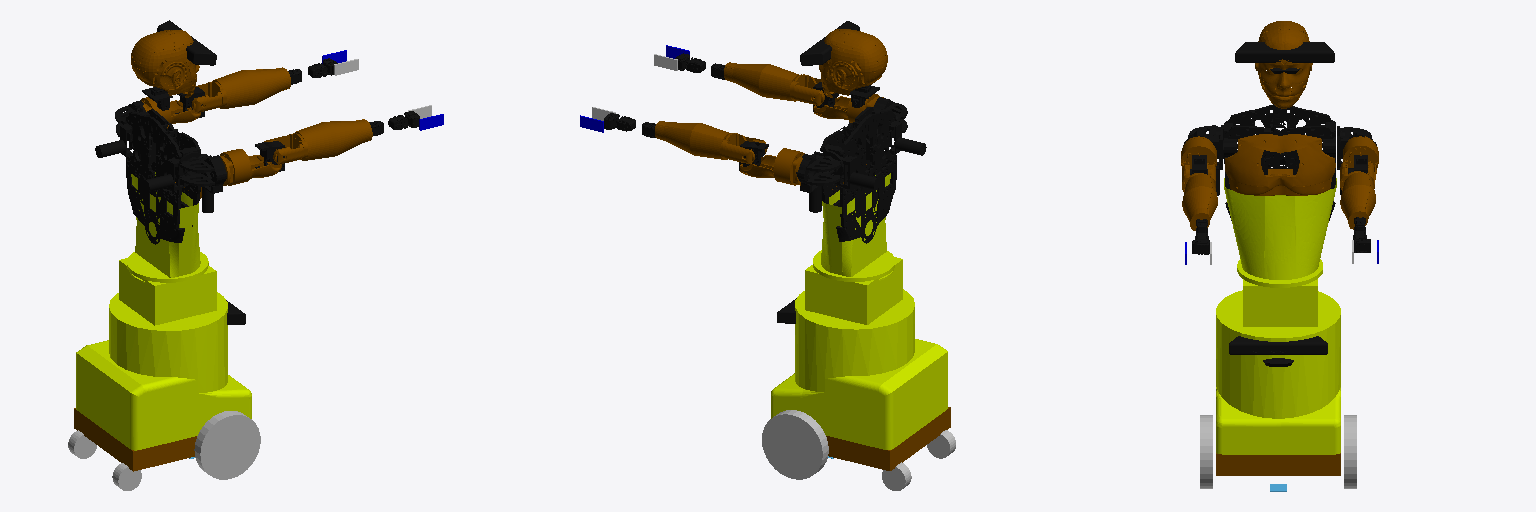
--- Render facts (derived) ---
Views: 3 orthographic renders of the robot side by side, from view 1: azimuth 30°, elevation 25°; view 2: azimuth 150°, elevation 25°; view 3: azimuth 270°, elevation 25°.
Robot: robbie — 63 links, 62 joints (17 revolute, 45 fixed); root link base_footprint; default pose: every joint at zero.
Links seen in each view (by area): view 1: deck_link, upper_torso, left_wheel, head_link, lower_torso, base_link, right_forearm_link, left_forearm_link, right_shoulder_lift, right_shoulder_rotate, right_elbow, right_shoulder_tilt (+6 smaller); view 2: deck_link, upper_torso, right_wheel, head_link, lower_torso, base_link, right_forearm_link, left_forearm_link, left_shoulder_lift, left_shoulder_rotate, right_shoulder_rotate, left_shoulder_tilt (+6 smaller); view 3: deck_link, lower_torso, upper_chest, upper_torso, head_link, base_link, head_cam_link, kinect_link, right_forearm_link, left_forearm_link, left_wheel, right_wheel (+4 smaller).
Link boxes in pixels (x1,y1,x2,y2): deck_link: (76, 252, 251, 450); upper_torso: (126, 109, 200, 244); left_wheel: (194, 411, 260, 479); head_link: (131, 30, 199, 97); lower_torso: (131, 172, 200, 277); base_link: (74, 408, 196, 471); right_forearm_link: (295, 119, 372, 160); left_forearm_link: (213, 67, 290, 108); right_shoulder_lift: (177, 152, 226, 212); right_shoulder_rotate: (220, 149, 281, 185); right_elbow: (264, 133, 307, 164); right_shoulder_tilt: (143, 147, 199, 191); deck_link: (771, 250, 947, 449); upper_torso: (820, 107, 896, 243); right_wheel: (762, 410, 828, 479); head_link: (819, 29, 887, 97); lower_torso: (821, 173, 890, 276); base_link: (826, 407, 950, 470); right_forearm_link: (724, 62, 798, 101); left_forearm_link: (655, 121, 729, 159); left_shoulder_lift: (796, 146, 843, 212); left_shoulder_rotate: (740, 148, 804, 185); right_shoulder_rotate: (813, 94, 883, 122); left_shoulder_tilt: (826, 144, 879, 189); deck_link: (1216, 259, 1340, 454); lower_torso: (1224, 178, 1336, 279); upper_chest: (1225, 134, 1335, 195); upper_torso: (1225, 104, 1335, 220); head_link: (1255, 21, 1312, 108); base_link: (1216, 453, 1340, 475); head_cam_link: (1235, 42, 1334, 73); kinect_link: (1229, 336, 1327, 366); right_forearm_link: (1182, 174, 1217, 230); left_forearm_link: (1340, 172, 1375, 229); left_wheel: (1200, 415, 1212, 488); right_wheel: (1344, 415, 1356, 488).
Size in the robot's own frame: 1.05 by 0.5507 by 1.38 metres.
27 mesh visuals loaded from 17 distinct referenced files (15 binary STL); not drawn: 13 (reference not matched to a file when rendering).

URDF robot description (robbie):
<?xml version="1.0" ?>
<!-- =================================================================================== -->
<!-- |    This document was autogenerated by xacro from robbie.xacro                   | -->
<!-- |    EDITING THIS FILE BY HAND IS NOT RECOMMENDED                                 | -->
<!-- =================================================================================== -->
<!-- XML namespaces -->
<robot name="robbie" xmlns:xacro="http://ros.org/wiki/xacro">
  <!-- ============================  A Few Color Macros  ============================ -->
  <!-- ============================   A Few Shape Macros  ============================ -->
  <!-- Import all Gazebo-customization elements, including Gazebo colors -->
  <!-- ros_control plugin -->
  <gazebo>
    <plugin filename="libgazebo_ros_control.so" name="gazebo_ros_control">
      <robotNamespace>/robbie</robotNamespace>
      <robotSimType>gazebo_ros_control/DefaultRobotHWSim</robotSimType>
    </plugin>
  </gazebo>
  <link name="base_link">
    <visual>
      <origin rpy="0 0 0" xyz="0 0 -0.032"/>
      <geometry>
        <box size="0.41 0.35 0.065"/>
      </geometry>
      <material name="gold">
        <color rgba="0.5 0.3 0 1.0"/>
      </material>
    </visual>
    <collision>
      <origin rpy="0 0 0" xyz="0 0 -0.032"/>
      <geometry>
        <box size="0.41 0.35 0.065"/>
      </geometry>
      <inertial>
        <mass value="0.01"/>
        <inertia ixx="0.001" ixy="0.0" ixz="0.0" iyy="0.001" iyz="0.0" izz="0.001"/>
      </inertial>
    </collision>
  </link>
  <gazebo reference="base_link">
    <material>Gazebo/FlatBlack</material>
    <selfCollide>false</selfCollide>
    <turnGravityOff>true</turnGravityOff>
  </gazebo>
  <link name="base_footprint">
    <visual>
      <origin rpy="0 0 0" xyz="0 0 0"/>
      <geometry>
        <box size="0.05 0.05 0.001"/>
      </geometry>
      <material name="TransparentGreen"/>
    </visual>
  </link>
  <link name="left_wheel">
    <visual>
      <origin rpy="1.57 0 0" xyz="0 0 0"/>
      <geometry>
        <cylinder length="0.035" radius="0.1025"/>
      </geometry>
      <material name="grey1">
        <color rgba="0.75 0.75 0.75 1.0"/>
      </material>
    </visual>
    <collision>
      <origin rpy="1.57 0 0" xyz="0 0 0"/>
      <geometry>
        <cylinder length="0.035" radius="0.1025"/>
      </geometry>
    </collision>
    <inertial>
      <mass value="0.1"/>
      <inertia ixx="0.001" ixy="0.0" ixz="0.0" iyy="0.001" iyz="0.0" izz="0.001"/>
    </inertial>
  </link>
  <gazebo reference="left_wheel">
    <material>Gazebo/Grey</material>
    <selfCollide>false</selfCollide>
    <turnGravityOff>true</turnGravityOff>
  </gazebo>
  <link name="right_wheel">
    <visual>
      <origin rpy="1.57 0 0" xyz="0 0 0"/>
      <geometry>
        <cylinder length="0.035" radius="0.1025"/>
      </geometry>
      <material name="grey1">
        <color rgba="0.75 0.75 0.75 1.0"/>
      </material>
    </visual>
    <collision>
      <origin rpy="1.57 0 0" xyz="0 0 0"/>
      <geometry>
        <cylinder length="0.035" radius="0.1025"/>
      </geometry>
    </collision>
    <inertial>
      <mass value="0.1"/>
      <inertia ixx="0.001" ixy="0.0" ixz="0.0" iyy="0.001" iyz="0.0" izz="0.001"/>
    </inertial>
  </link>
  <gazebo reference="right_wheel">
    <material>Gazebo/Grey</material>
    <selfCollide>false</selfCollide>
    <turnGravityOff>true</turnGravityOff>
  </gazebo>
  <link name="castor_wheel_l">
    <visual>
      <origin rpy="1.57 0 0" xyz="0 0 0"/>
      <geometry>
        <cylinder length="0.035" radius="0.04"/>
      </geometry>
      <material name="grey1">
        <color rgba="0.75 0.75 0.75 1.0"/>
      </material>
    </visual>
    <collision>
      <origin rpy="1.57 0 0" xyz="0 0 0"/>
      <geometry>
        <cylinder length="0.035" radius="0.04"/>
      </geometry>
    </collision>
    <inertial>
      <mass value="0.1"/>
      <inertia ixx="0.001" ixy="0.0" ixz="0.0" iyy="0.001" iyz="0.0" izz="0.001"/>
    </inertial>
  </link>
  <gazebo reference="castor_wheel_l">
    <material>Gazebo/Grey</material>
    <selfCollide>false</selfCollide>
    <turnGravityOff>true</turnGravityOff>
  </gazebo>
  <link name="castor_wheel_r">
    <visual>
      <origin rpy="1.57 0 0" xyz="0 0 0"/>
      <geometry>
        <cylinder length="0.035" radius="0.04"/>
      </geometry>
      <material name="grey1">
        <color rgba="0.75 0.75 0.75 1.0"/>
      </material>
    </visual>
    <collision>
      <origin rpy="1.57 0 0" xyz="0 0 0"/>
      <geometry>
        <cylinder length="0.035" radius="0.04"/>
      </geometry>
    </collision>
    <inertial>
      <mass value="0.1"/>
      <inertia ixx="0.001" ixy="0.0" ixz="0.0" iyy="0.001" iyz="0.0" izz="0.001"/>
    </inertial>
  </link>
  <gazebo reference="castor_wheel_r">
    <material>Gazebo/Grey</material>
    <selfCollide>false</selfCollide>
    <turnGravityOff>true</turnGravityOff>
  </gazebo>
  <!--<xacro:my_cylinder name="deck_link" l="0.520" r="0.175" xyz="0 0 -0.26" rpy="0 0 0" mass="0.2" material="Gazebo/grey">
			<xacro:black />
		</xacro:my_cylinder>-->
  <link name="deck_link">
    <visual>
      <geometry>
        <mesh filename="package://robbie_description/meshes/drive_base.stl" scale="0.001 0.001 0.001"/>
      </geometry>
      <material name="yellow2">
        <color rgba="0.8 0.9 0 1.0"/>
      </material>
      <origin rpy="0 0 1.57" xyz=" 0.015 -0.175 -0"/>
    </visual>
    <inertial>
      <mass value="5.0"/>
      <inertia ixx="0.001" ixy="0.0" ixz="0.0" iyy="0.001" iyz="0.0" izz="0.001"/>
    </inertial>
  </link>
  <link name="pan_link">
    <visual>
      <origin rpy="0 0 0" xyz="0.0 0 -0.02"/>
      <geometry>
        <cylinder length="0.005" radius="0.1"/>
      </geometry>
      <material name="yellow2">
        <color rgba="0.8 0.9 0 1.0"/>
      </material>
    </visual>
    <collision>
      <origin rpy="0 0 0" xyz="0.0 0 -0.02"/>
      <geometry>
        <cylinder length="0.005" radius="0.1"/>
      </geometry>
    </collision>
    <inertial>
      <mass value="0.2"/>
      <inertia ixx="0.001" ixy="0.0" ixz="0.0" iyy="0.001" iyz="0.0" izz="0.001"/>
    </inertial>
  </link>
  <gazebo reference="pan_link">
    <material>Gazebo/grey</material>
    <selfCollide>false</selfCollide>
    <turnGravityOff>true</turnGravityOff>
  </gazebo>
  <!-- ##############################   upper torso   ##################333333-->
  <link name="lower_torso">
    <visual>
      <geometry>
        <mesh filename="package://robbie_description/meshes/chest_lower.stl" scale="0.001 0.001 0.001"/>
      </geometry>
      <material name="yellow2">
        <color rgba="0.8 0.9 0 1.0"/>
      </material>
      <origin rpy="0 0 1.57" xyz="0 0 0"/>
    </visual>
  </link>
  <link name="upper_torso">
    <visual>
      <geometry>
        <mesh filename="package://robbie_description/meshes/chest.stl" scale="0.001 0.001 0.001"/>
      </geometry>
      <material name="black">
        <color rgba="0.1 0.1 0.1 1.0"/>
      </material>
      <origin rpy="0 0 -1.57" xyz="0.04 0 -0.15"/>
    </visual>
  </link>
  <link name="upper_chest">
    <visual>
      <geometry>
        <mesh filename="package://robbie_description/meshes/chest_cover.stl" scale="0.001 0.001 0.001"/>
      </geometry>
      <material name="gold">
        <color rgba="0.5 0.3 0 1.0"/>
      </material>
      <origin rpy="0 0 1.57" xyz="0 0 -0.085"/>
    </visual>
  </link>
  <!-- ##############################   right arm ##################333333-->
  <link name="right_shoulder_tilt">
    <visual>
      <geometry>
        <mesh filename="package://robbie_description/meshes/right_shoulder_tilt_assy.stl" scale="0.001 0.001 0.001"/>
      </geometry>
      <material name="black">
        <color rgba="0.1 0.1 0.1 1.0"/>
      </material>
      <origin rpy="0 0 1.57" xyz="0 -0.05 -0.05"/>
    </visual>
    <inertial>
      <mass value="0.5"/>
      <inertia ixx="0.001" ixy="0.0" ixz="0.0" iyy="0.001" iyz="0.0" izz="0.001"/>
    </inertial>
  </link>
  <link name="right_shoulder_lift">
    <visual>
      <geometry>
        <mesh filename="package://robbie_description/meshes/right_shoulder_assy.stl" scale="0.001 0.001 0.001"/>
      </geometry>
      <material name="black">
        <color rgba="0.1 0.1 0.1 1.0"/>
      </material>
      <origin rpy="-1.57 0 1.57" xyz="-0.01 0 -0.025"/>
    </visual>
    <inertial>
      <mass value="0.5"/>
      <inertia ixx="0.001" ixy="0.0" ixz="0.0" iyy="0.001" iyz="0.0" izz="0.001"/>
    </inertial>
  </link>
  <link name="right_elbow_link">
    <visual>
      <geometry>
        <mesh filename="package://robbie_description/meshes/gearbox.stl" scale="0.001 0.001 0.001"/>
      </geometry>
      <material name="black">
        <color rgba="0.1 0.1 0.1 1.0"/>
      </material>
      <origin rpy="0 0 0" xyz="0 0 0"/>
    </visual>
    <inertial>
      <mass value="0.5"/>
      <inertia ixx="0.001" ixy="0.0" ixz="0.0" iyy="0.001" iyz="0.0" izz="0.001"/>
    </inertial>
  </link>
  <link name="right_shoulder_rotate">
    <visual>
      <geometry>
        <mesh filename="package://robbie_description/meshes/right_upper_arm.stl" scale="0.001 0.001 0.001"/>
      </geometry>
      <material name="gold">
        <color rgba="0.5 0.3 0 1.0"/>
      </material>
      <origin rpy="0 1.57 0" xyz="-0.19 0 0"/>
    </visual>
    <inertial>
      <mass value="0.5"/>
      <inertia ixx="0.001" ixy="0.0" ixz="0.0" iyy="0.001" iyz="0.0" izz="0.001"/>
    </inertial>
  </link>
  <link name="right_elbow">
    <visual>
      <geometry>
        <mesh filename="package://robbie_description/meshes/elbow_pivot.stl" scale="0.001 0.001 0.001"/>
      </geometry>
      <material name="gold">
        <color rgba="0.5 0.3 0 1.0"/>
      </material>
      <origin rpy="0 0 3.14" xyz="-0.025 -0.055 -0.02"/>
    </visual>
  </link>
  <link name="right_forearm_link">
    <visual>
      <geometry>
        <mesh filename="package://robbie_description/meshes/fore_arm.stl" scale="0.001 0.001 0.001"/>
      </geometry>
      <material name="gold">
        <color rgba="0.5 0.3 0 1.0"/>
      </material>
      <origin rpy="0 1.57 0" xyz="-0.23 0 0"/>
    </visual>
  </link>
  <!-- wrist_yaw_ joint-->
  <link name="wrist_yaw_servo">
    <visual>
      <origin rpy="-1.57 0 -1.57" xyz="0 0 0"/>
      <geometry>
        <mesh filename="package://robbie_description/meshes/ax12_box2.stl" scale="0.001 0.001 0.001"/>
      </geometry>
      <material name="ax12_color">
        <color rgba="0.1 0.1 0.1 1.0"/>
      </material>
    </visual>
    <collision>
      <origin rpy="-1.57 0 -1.57" xyz="0 0 0"/>
      <geometry>
        <!--<box size="0.032 0.038 0.05" />-->
        <mesh filename="package://robbie_description/meshes/ax12_box2.stl" scale="0.001 0.001 0.001"/>
      </geometry>
    </collision>
    <inertial>
      <mass value="0.055"/>
      <inertia ixx="0.001" ixy="0.0" ixz="0.0" iyy="0.001" iyz="0.0" izz="0.001"/>
    </inertial>
  </link>
  <gazebo reference="wrist_yaw_servo">
    <material>Gazebo/FlatBlack</material>
    <selfCollide>false</selfCollide>
    <turnGravityOff>true</turnGravityOff>
  </gazebo>
  <link name="wrist_yaw_servo_bracket_f3">
    <visual>
      <origin rpy="1.57 0 -1.57" xyz="0 0.005 0"/>
      <geometry>
        <mesh filename="package://robbie_description/meshes/F3.stl" scale="0.001 0.001 0.001"/>
      </geometry>
      <material name="grey1">
        <color rgba="0.75 0.75 0.75 1.0"/>
      </material>
      <material name="bracket_color">
        <color rgba="0.9 0.9 0.9 1.0"/>
      </material>
    </visual>
    <collision>
      <origin rpy="1.57 0 -1.57" xyz="0 0.005 0"/>
      <geometry>
        <mesh filename="package://robbie_description/meshes/F3.stl" scale="0.001 0.001 0.001"/>
      </geometry>
    </collision>
    <inertial>
      <mass value="0.01"/>
      <inertia ixx="0.001" ixy="0.0" ixz="0.0" iyy="0.001" iyz="0.0" izz="0.001"/>
    </inertial>
  </link>
  <gazebo reference="wrist_yaw_servo_bracket_f3">
    <material>Gazebo/WhiteEmissive</material>
    <selfCollide>false</selfCollide>
    <turnGravityOff>true</turnGravityOff>
  </gazebo>
  <link name="right_wrist_yaw_bracket_f2">
    <visual>
      <origin rpy="-1.57 0 -1.57" xyz="0 0 0"/>
      <geometry>
        <mesh filename="package://robbie_description/meshes/F2.stl" scale="0.001 0.001 0.001"/>
      </geometry>
      <material name="bracket_color">
        <color rgba="0.9 0.9 0.9 1.0"/>
      </material>
    </visual>
    <collision>
      <origin rpy="-1.57 0 -1.57" xyz="0 0 0"/>
      <geometry>
        <mesh filename="package://robbie_description/meshes/F2.stl" scale="0.001 0.001 0.001"/>
      </geometry>
    </collision>
    <inertial>
      <mass value="0.02"/>
      <inertia ixx="0.001" ixy="0.0" ixz="0.0" iyy="0.001" iyz="0.0" izz="0.001"/>
    </inertial>
  </link>
  <gazebo reference="right_wrist_yaw_bracket_f2">
    <material>Gazebo/WhiteEmissive</material>
    <selfCollide>false</selfCollide>
    <turnGravityOff>true</turnGravityOff>
  </gazebo>
  <!-- wrist_tilt joint-->
  <link name="wrist_tilt_servo">
    <visual>
      <origin rpy="0 -1.57 0" xyz="0 0 0"/>
      <geometry>
        <mesh filename="package://robbie_description/meshes/ax12_box2.stl" scale="0.001 0.001 0.001"/>
      </geometry>
      <material name="ax12_color">
        <color rgba="0.1 0.1 0.1 1.0"/>
      </material>
    </visual>
    <collision>
      <origin rpy="0 -1.57 0" xyz="0 0 0"/>
      <geometry>
        <!--<box size="0.032 0.038 0.05" />-->
        <mesh filename="package://robbie_description/meshes/ax12_box2.stl" scale="0.001 0.001 0.001"/>
      </geometry>
    </collision>
    <inertial>
      <mass value="0.055"/>
      <inertia ixx="0.001" ixy="0.0" ixz="0.0" iyy="0.001" iyz="0.0" izz="0.001"/>
    </inertial>
  </link>
  <gazebo reference="wrist_tilt_servo">
    <material>Gazebo/FlatBlack</material>
    <selfCollide>false</selfCollide>
    <turnGravityOff>true</turnGravityOff>
  </gazebo>
  <link name="wrist_tilt_bracket_f2">
    <visual>
      <origin rpy="0 -1.57 0" xyz="0 0 0"/>
      <geometry>
        <mesh filename="package://robbie_description/meshes/F2.stl" scale="0.001 0.001 0.001"/>
      </geometry>
      <material name="bracket_color">
        <color rgba="0.9 0.9 0.9 1.0"/>
      </material>
    </visual>
    <collision>
      <origin rpy="0 -1.57 0" xyz="0 0 0"/>
      <geometry>
        <mesh filename="package://robbie_description/meshes/F2.stl" scale="0.001 0.001 0.001"/>
      </geometry>
    </collision>
    <inertial>
      <mass value="0.02"/>
      <inertia ixx="0.001" ixy="0.0" ixz="0.0" iyy="0.001" iyz="0.0" izz="0.001"/>
    </inertial>
  </link>
  <gazebo reference="wrist_tilt_bracket_f2">
    <material>Gazebo/WhiteEmissive</material>
    <selfCollide>false</selfCollide>
    <turnGravityOff>true</turnGravityOff>
  </gazebo>
  <!--here-->
  <link name="gripper_bracket_f3">
    <visual>
      <origin rpy="1.57 0 -1.57" xyz="0 0 0"/>
      <geometry>
        <mesh filename="package://robbie_description/meshes/F3.stl" scale="0.001 0.001 0.001"/>
      </geometry>
      <material name="grey1">
        <color rgba="0.75 0.75 0.75 1.0"/>
      </material>
      <material name="bracket_color">
        <color rgba="0.9 0.9 0.9 1.0"/>
      </material>
    </visual>
    <collision>
      <origin rpy="1.57 0 -1.57" xyz="0 0 0"/>
      <geometry>
        <mesh filename="package://robbie_description/meshes/F3.stl" scale="0.001 0.001 0.001"/>
      </geometry>
    </collision>
    <inertial>
      <mass value="0.01"/>
      <inertia ixx="0.001" ixy="0.0" ixz="0.0" iyy="0.001" iyz="0.0" izz="0.001"/>
    </inertial>
  </link>
  <gazebo reference="gripper_bracket_f3">
    <material>Gazebo/WhiteEmissive</material>
    <selfCollide>false</selfCollide>
    <turnGravityOff>true</turnGravityOff>
  </gazebo>
  <!-- Gripper_joint-->
  <link name="gripper_servo">
    <visual>
      <origin rpy="1.57 0 0" xyz="0 0 0"/>
      <geometry>
        <mesh filename="package://robbie_description/meshes/ax12_box2.stl" scale="0.001 0.001 0.001"/>
      </geometry>
      <material name="ax12_color">
        <color rgba="0.1 0.1 0.1 1.0"/>
      </material>
    </visual>
    <collision>
      <origin rpy="1.57 0 0" xyz="0 0 0"/>
      <geometry>
        <!--<box size="0.032 0.038 0.05" />-->
        <mesh filename="package://robbie_description/meshes/ax12_box2.stl" scale="0.001 0.001 0.001"/>
      </geometry>
    </collision>
    <inertial>
      <mass value="0.055"/>
      <inertia ixx="0.001" ixy="0.0" ixz="0.0" iyy="0.001" iyz="0.0" izz="0.001"/>
    </inertial>
  </link>
  <gazebo reference="gripper_servo">
    <material>Gazebo/FlatBlack</material>
    <selfCollide>false</selfCollide>
    <turnGravityOff>true</turnGravityOff>
  </gazebo>
  <link name="gripper_bracket_f2">
    <visual>
      <origin rpy="1.57 0 0" xyz="0 0 0"/>
      <geometry>
        <mesh filename="package://robbie_description/meshes/F2.stl" scale="0.001 0.001 0.001"/>
      </geometry>
      <material name="bracket_color">
        <color rgba="0.9 0.9 0.9 1.0"/>
      </material>
    </visual>
    <collision>
      <origin rpy="1.57 0 0" xyz="0 0 0"/>
      <geometry>
        <mesh filename="package://robbie_description/meshes/F2.stl" scale="0.001 0.001 0.001"/>
      </geometry>
    </collision>
    <inertial>
      <mass value="0.02"/>
      <inertia ixx="0.001" ixy="0.0" ixz="0.0" iyy="0.001" iyz="0.0" izz="0.001"/>
    </inertial>
  </link>
  <gazebo reference="gripper_bracket_f2">
    <material>Gazebo/WhiteEmissive</material>
    <selfCollide>false</selfCollide>
    <turnGravityOff>true</turnGravityOff>
  </gazebo>
  <link name="right_finger_link">
    <visual>
      <origin rpy="0 0 0" xyz="-0.04 0 0"/>
      <geometry>
        <box size="-0.08 0.005 0.035"/>
      </geometry>
      <material name="blue1">
        <color rgba="0 0 0.9 1.0"/>
      </material>
    </visual>
    <collision>
      <origin rpy="0 0 0" xyz="-0.04 0 0"/>
      <geometry>
        <box size="-0.08 0.005 0.035"/>
      </geometry>
      <inertial>
        <mass value="0.01"/>
        <inertia ixx="0.001" ixy="0.0" ixz="0.0" iyy="0.001" iyz="0.0" izz="0.001"/>
      </inertial>
    </collision>
  </link>
  <gazebo reference="right_finger_link">
    <material>Gazebo/FlatBlack</material>
    <selfCollide>false</selfCollide>
    <turnGravityOff>true</turnGravityOff>
  </gazebo>
  <link name="left_finger_link">
    <visual>
      <origin rpy="0 0 0" xyz="-0.04 0 0"/>
      <geometry>
        <box size="0.08 0.005 0.035"/>
      </geometry>
      <material name="grey3">
        <color rgba="0.8 0.8 0.8 1.0"/>
      </material>
    </visual>
    <collision>
      <origin rpy="0 0 0" xyz="-0.04 0 0"/>
      <geometry>
        <box size="0.08 0.005 0.035"/>
      </geometry>
      <inertial>
        <mass value="0.01"/>
        <inertia ixx="0.001" ixy="0.0" ixz="0.0" iyy="0.001" iyz="0.0" izz="0.001"/>
      </inertial>
    </collision>
  </link>
  <gazebo reference="left_finger_link">
    <material>Gazebo/FlatBlack</material>
    <selfCollide>false</selfCollide>
    <turnGravityOff>true</turnGravityOff>
  </gazebo>
  <!-- ##############################   left arm ##################333333-->
  <link name="left_shoulder_tilt">
    <visual>
      <geometry>
        <mesh filename="package://robbie_description/meshes/left_shoulder_tilt_assy.stl" scale="0.001 0.001 0.001"/>
      </geometry>
      <material name="black">
        <color rgba="0.1 0.1 0.1 1.0"/>
      </material>
      <origin rpy="0 0 1.57" xyz="0 0.0 -0.0"/>
    </visual>
  </link>
  <link name="left_shoulder_lift">
    <visual>
      <geometry>
        <mesh filename="package://robbie_description/meshes/left_shoulder_assy.stl" scale="0.001 0.001 0.001"/>
      </geometry>
      <material name="black">
        <color rgba="0.1 0.1 0.1 1.0"/>
      </material>
      <origin rpy="-1.57 0 1.57" xyz="0 -0.06 0"/>
    </visual>
  </link>
  <link name="left_shoulder_rotate">
    <visual>
      <geometry>
        <mesh filename="package://robbie_description/meshes/right_upper_arm.stl" scale="0.001 0.001 0.001"/>
      </geometry>
      <material name="gold">
        <color rgba="0.5 0.3 0 1.0"/>
      </material>
      <origin rpy="0 1.57 0" xyz="-0.19 0 0"/>
    </visual>
  </link>
  <link name="left_elbow_link">
    <visual>
      <geometry>
        <mesh filename="package://robbie_description/meshes/gearbox.stl" scale="0.001 0.001 0.001"/>
      </geometry>
      <material name="black">
        <color rgba="0.1 0.1 0.1 1.0"/>
      </material>
      <origin rpy="0 0 0" xyz="0 0 0"/>
    </visual>
  </link>
  <link name="left_elbow">
    <visual>
      <geometry>
        <mesh filename="package://robbie_description/meshes/elbow_pivot.stl" scale="0.001 0.001 0.001"/>
      </geometry>
      <material name="gold">
        <color rgba="0.5 0.3 0 1.0"/>
      </material>
      <origin rpy="0 0 3.14" xyz="-0.025 -0.055 -0.02"/>
    </visual>
  </link>
  <link name="left_forearm_link">
    <visual>
      <geometry>
        <mesh filename="package://robbie_description/meshes/fore_arm.stl" scale="0.001 0.001 0.001"/>
      </geometry>
      <material name="gold">
        <color rgba="0.5 0.3 0 1.0"/>
      </material>
      <origin rpy="0 1.57 0" xyz="-0.23 0 0"/>
    </visual>
  </link>
  <!-- left_wrist_pan_ joint-->
  <link name="left_wrist_pan_servo_bracket_f3">
    <visual>
      <origin rpy="1.57 0 -1.57" xyz="0 0.005 0"/>
      <geometry>
        <mesh filename="package://robbie_description/meshes/F3.stl" scale="0.001 0.001 0.001"/>
      </geometry>
      <material name="grey1">
        <color rgba="0.75 0.75 0.75 1.0"/>
      </material>
      <material name="bracket_color">
        <color rgba="0.9 0.9 0.9 1.0"/>
      </material>
    </visual>
    <collision>
      <origin rpy="1.57 0 -1.57" xyz="0 0.005 0"/>
      <geometry>
        <mesh filename="package://robbie_description/meshes/F3.stl" scale="0.001 0.001 0.001"/>
      </geometry>
    </collision>
    <inertial>
      <mass value="0.01"/>
      <inertia ixx="0.001" ixy="0.0" ixz="0.0" iyy="0.001" iyz="0.0" izz="0.001"/>
    </inertial>
  </link>
  <gazebo reference="left_wrist_pan_servo_bracket_f3">
    <material>Gazebo/WhiteEmissive</material>
    <selfCollide>false</selfCollide>
    <turnGravityOff>true</turnGravityOff>
  </gazebo>
  <!-- <xacro:F3_bracket name="left_wrist_pan_servo_bracket2_f3" xyz="0 0 0" rpy="0 -1.57 0" />-->
  <!-- left_wrist_yaw joint-->
  <link name="left_wrist_yaw_servo">
    <visual>
      <origin rpy="-1.57 0 -1.57" xyz="0.0 0 0"/>
      <geometry>
        <mesh filename="package://robbie_description/meshes/ax12_box2.stl" scale="0.001 0.001 0.001"/>
      </geometry>
      <material name="ax12_color">
        <color rgba="0.1 0.1 0.1 1.0"/>
      </material>
    </visual>
    <collision>
      <origin rpy="-1.57 0 -1.57" xyz="0.0 0 0"/>
      <geometry>
        <!--<box size="0.032 0.038 0.05" />-->
        <mesh filename="package://robbie_description/meshes/ax12_box2.stl" scale="0.001 0.001 0.001"/>
      </geometry>
    </collision>
    <inertial>
      <mass value="0.055"/>
      <inertia ixx="0.001" ixy="0.0" ixz="0.0" iyy="0.001" iyz="0.0" izz="0.001"/>
    </inertial>
  </link>
  <gazebo reference="left_wrist_yaw_servo">
    <material>Gazebo/FlatBlack</material>
    <selfCollide>false</selfCollide>
    <turnGravityOff>true</turnGravityOff>
  </gazebo>
  <link name="left_wrist_yaw_bracket_f2">
    <visual>
      <origin rpy="-1.57 0 -1.57" xyz="0 0 0"/>
      <geometry>
        <mesh filename="package://robbie_description/meshes/F2.stl" scale="0.001 0.001 0.001"/>
      </geometry>
      <material name="bracket_color">
        <color rgba="0.9 0.9 0.9 1.0"/>
      </material>
    </visual>
    <collision>
      <origin rpy="-1.57 0 -1.57" xyz="0 0 0"/>
      <geometry>
        <mesh filename="package://robbie_description/meshes/F2.stl" scale="0.001 0.001 0.001"/>
      </geometry>
    </collision>
    <inertial>
      <mass value="0.02"/>
      <inertia ixx="0.001" ixy="0.0" ixz="0.0" iyy="0.001" iyz="0.0" izz="0.001"/>
    </inertial>
  </link>
  <gazebo reference="left_wrist_yaw_bracket_f2">
    <material>Gazebo/WhiteEmissive</material>
    <selfCollide>false</selfCollide>
    <turnGravityOff>true</turnGravityOff>
  </gazebo>
  <!-- left_wrist_tilt joint-->
  <link name="left_wrist_tilt_servo">
    <visual>
      <origin rpy="0 -1.57 0" xyz="0 0 0"/>
      <geometry>
        <mesh filename="package://robbie_description/meshes/ax12_box2.stl" scale="0.001 0.001 0.001"/>
      </geometry>
      <material name="ax12_color">
        <color rgba="0.1 0.1 0.1 1.0"/>
      </material>
    </visual>
    <collision>
      <origin rpy="0 -1.57 0" xyz="0 0 0"/>
      <geometry>
        <!--<box size="0.032 0.038 0.05" />-->
        <mesh filename="package://robbie_description/meshes/ax12_box2.stl" scale="0.001 0.001 0.001"/>
      </geometry>
    </collision>
    <inertial>
      <mass value="0.055"/>
      <inertia ixx="0.001" ixy="0.0" ixz="0.0" iyy="0.001" iyz="0.0" izz="0.001"/>
    </inertial>
  </link>
  <gazebo reference="left_wrist_tilt_servo">
    <material>Gazebo/FlatBlack</material>
    <selfCollide>false</selfCollide>
    <turnGravityOff>true</turnGravityOff>
  </gazebo>
  <link name="left_wrist_tilt_bracket_f2">
    <visual>
      <origin rpy="0 -1.57 0" xyz="0 0 0"/>
      <geometry>
        <mesh filename="package://robbie_description/meshes/F2.stl" scale="0.001 0.001 0.001"/>
      </geometry>
      <material name="bracket_color">
        <color rgba="0.9 0.9 0.9 1.0"/>
      </material>
    </visual>
    <collision>
      <origin rpy="0 -1.57 0" xyz="0 0 0"/>
      <geometry>
        <mesh filename="package://robbie_description/meshes/F2.stl" scale="0.001 0.001 0.001"/>
      </geometry>
    </collision>
    <inertial>
      <mass value="0.02"/>
      <inertia ixx="0.001" ixy="0.0" ixz="0.0" iyy="0.001" iyz="0.0" izz="0.001"/>
    </inertial>
  </link>
  <gazebo reference="left_wrist_tilt_bracket_f2">
    <material>Gazebo/WhiteEmissive</material>
    <selfCollide>false</selfCollide>
    <turnGravityOff>true</turnGravityOff>
  </gazebo>
  <link name="left_gripper_bracket_f3">
    <visual>
      <origin rpy="1.57 0 -1.57" xyz="0 0 0"/>
      <geometry>
        <mesh filename="package://robbie_description/meshes/F3.stl" scale="0.001 0.001 0.001"/>
      </geometry>
      <material name="grey1">
        <color rgba="0.75 0.75 0.75 1.0"/>
      </material>
      <material name="bracket_color">
        <color rgba="0.9 0.9 0.9 1.0"/>
      </material>
    </visual>
    <collision>
      <origin rpy="1.57 0 -1.57" xyz="0 0 0"/>
      <geometry>
        <mesh filename="package://robbie_description/meshes/F3.stl" scale="0.001 0.001 0.001"/>
      </geometry>
    </collision>
    <inertial>
      <mass value="0.01"/>
      <inertia ixx="0.001" ixy="0.0" ixz="0.0" iyy="0.001" iyz="0.0" izz="0.001"/>
    </inertial>
  </link>
  <gazebo reference="left_gripper_bracket_f3">
    <material>Gazebo/WhiteEmissive</material>
    <selfCollide>false</selfCollide>
    <turnGravityOff>true</turnGravityOff>
  </gazebo>
  <!-- left_Gripper_joint-->
  <link name="left_gripper_servo">
    <visual>
      <origin rpy="1.57 0 0" xyz="0 0 0"/>
      <geometry>
        <mesh filename="package://robbie_description/meshes/ax12_box2.stl" scale="0.001 0.001 0.001"/>
      </geometry>
      <material name="ax12_color">
        <color rgba="0.1 0.1 0.1 1.0"/>
      </material>
    </visual>
    <collision>
      <origin rpy="1.57 0 0" xyz="0 0 0"/>
      <geometry>
        <!--<box size="0.032 0.038 0.05" />-->
        <mesh filename="package://robbie_description/meshes/ax12_box2.stl" scale="0.001 0.001 0.001"/>
      </geometry>
    </collision>
    <inertial>
      <mass value="0.055"/>
      <inertia ixx="0.001" ixy="0.0" ixz="0.0" iyy="0.001" iyz="0.0" izz="0.001"/>
    </inertial>
  </link>
  <gazebo reference="left_gripper_servo">
    <material>Gazebo/FlatBlack</material>
    <selfCollide>false</selfCollide>
    <turnGravityOff>true</turnGravityOff>
  </gazebo>
  <link name="left_gripper_bracket_f2">
    <visual>
      <origin rpy="1.57 0 0" xyz="0 0 0"/>
      <geometry>
        <mesh filename="package://robbie_description/meshes/F2.stl" scale="0.001 0.001 0.001"/>
      </geometry>
      <material name="bracket_color">
        <color rgba="0.9 0.9 0.9 1.0"/>
      </material>
    </visual>
    <collision>
      <origin rpy="1.57 0 0" xyz="0 0 0"/>
      <geometry>
        <mesh filename="package://robbie_description/meshes/F2.stl" scale="0.001 0.001 0.001"/>
      </geometry>
    </collision>
    <inertial>
      <mass value="0.02"/>
      <inertia ixx="0.001" ixy="0.0" ixz="0.0" iyy="0.001" iyz="0.0" izz="0.001"/>
    </inertial>
  </link>
  <gazebo reference="left_gripper_bracket_f2">
    <material>Gazebo/WhiteEmissive</material>
    <selfCollide>false</selfCollide>
    <turnGravityOff>true</turnGravityOff>
  </gazebo>
  <link name="left_right_finger_link">
    <visual>
      <origin rpy="0 0 0" xyz="-0.04 0 0"/>
      <geometry>
        <box size="-0.08 0.005 0.035"/>
      </geometry>
      <material name="blue1">
        <color rgba="0 0 0.9 1.0"/>
      </material>
    </visual>
    <collision>
      <origin rpy="0 0 0" xyz="-0.04 0 0"/>
      <geometry>
        <box size="-0.08 0.005 0.035"/>
      </geometry>
      <inertial>
        <mass value="0.01"/>
        <inertia ixx="0.001" ixy="0.0" ixz="0.0" iyy="0.001" iyz="0.0" izz="0.001"/>
      </inertial>
    </collision>
  </link>
  <gazebo reference="left_right_finger_link">
    <material>Gazebo/FlatBlack</material>
    <selfCollide>false</selfCollide>
    <turnGravityOff>true</turnGravityOff>
  </gazebo>
  <link name="left_left_finger_link">
    <visual>
      <origin rpy="0 0 0" xyz="-0.04 0 0"/>
      <geometry>
        <box size="0.08 0.005 0.035"/>
      </geometry>
      <material name="grey3">
        <color rgba="0.8 0.8 0.8 1.0"/>
      </material>
    </visual>
    <collision>
      <origin rpy="0 0 0" xyz="-0.04 0 0"/>
      <geometry>
        <box size="0.08 0.005 0.035"/>
      </geometry>
      <inertial>
        <mass value="0.01"/>
        <inertia ixx="0.001" ixy="0.0" ixz="0.0" iyy="0.001" iyz="0.0" izz="0.001"/>
      </inertial>
    </collision>
  </link>
  <gazebo reference="left_left_finger_link">
    <material>Gazebo/FlatBlack</material>
    <selfCollide>false</selfCollide>
    <turnGravityOff>true</turnGravityOff>
  </gazebo>
  <!-- head details-->
  <link name="head_tilt_bracket">
    <visual>
      <origin rpy="0 3.1415 0" xyz="0 0 0"/>
      <geometry>
        <mesh filename="package://robbie_description/meshes/F2.stl" scale="0.001 0.001 0.001"/>
      </geometry>
      <material name="bracket_color">
        <color rgba="0.9 0.9 0.9 1.0"/>
      </material>
    </visual>
    <collision>
      <origin rpy="0 3.1415 0" xyz="0 0 0"/>
      <geometry>
        <mesh filename="package://robbie_description/meshes/F2.stl" scale="0.001 0.001 0.001"/>
      </geometry>
    </collision>
    <inertial>
      <mass value="0.02"/>
      <inertia ixx="0.001" ixy="0.0" ixz="0.0" iyy="0.001" iyz="0.0" izz="0.001"/>
    </inertial>
  </link>
  <gazebo reference="head_tilt_bracket">
    <material>Gazebo/WhiteEmissive</material>
    <selfCollide>false</selfCollide>
    <turnGravityOff>true</turnGravityOff>
  </gazebo>
  <link name="head_tilt_link">
    <visual>
      <origin rpy="3.1415 0 0" xyz="0 0 0"/>
      <geometry>
        <mesh filename="package://robbie_description/meshes/ax12_box2.stl" scale="0.001 0.001 0.001"/>
      </geometry>
      <material name="ax12_color">
        <color rgba="0.1 0.1 0.1 1.0"/>
      </material>
    </visual>
    <collision>
      <origin rpy="3.1415 0 0" xyz="0 0 0"/>
      <geometry>
        <!--<box size="0.032 0.038 0.05" />-->
        <mesh filename="package://robbie_description/meshes/ax12_box2.stl" scale="0.001 0.001 0.001"/>
      </geometry>
    </collision>
    <inertial>
      <mass value="0.055"/>
      <inertia ixx="0.001" ixy="0.0" ixz="0.0" iyy="0.001" iyz="0.0" izz="0.001"/>
    </inertial>
  </link>
  <gazebo reference="head_tilt_link">
    <material>Gazebo/FlatBlack</material>
    <selfCollide>false</selfCollide>
    <turnGravityOff>true</turnGravityOff>
  </gazebo>
  <link name="head_pan_bracket">
    <visual>
      <origin rpy="0 0 0" xyz="0 0 0"/>
      <geometry>
        <mesh filename="package://robbie_description/meshes/F3.stl" scale="0.001 0.001 0.001"/>
      </geometry>
      <material name="grey1">
        <color rgba="0.75 0.75 0.75 1.0"/>
      </material>
      <material name="bracket_color">
        <color rgba="0.9 0.9 0.9 1.0"/>
      </material>
    </visual>
    <collision>
      <origin rpy="0 0 0" xyz="0 0 0"/>
      <geometry>
        <mesh filename="package://robbie_description/meshes/F3.stl" scale="0.001 0.001 0.001"/>
      </geometry>
    </collision>
    <inertial>
      <mass value="0.01"/>
      <inertia ixx="0.001" ixy="0.0" ixz="0.0" iyy="0.001" iyz="0.0" izz="0.001"/>
    </inertial>
  </link>
  <gazebo reference="head_pan_bracket">
    <material>Gazebo/WhiteEmissive</material>
    <selfCollide>false</selfCollide>
    <turnGravityOff>true</turnGravityOff>
  </gazebo>
  <link name="head_pan_link">
    <visual>
      <origin rpy=" 1.57 0 1.57" xyz="0 0 0"/>
      <geometry>
        <mesh filename="package://robbie_description/meshes/ax12_box2.stl" scale="0.001 0.001 0.001"/>
      </geometry>
      <material name="ax12_color">
        <color rgba="0.1 0.1 0.1 1.0"/>
      </material>
    </visual>
    <collision>
      <origin rpy=" 1.57 0 1.57" xyz="0 0 0"/>
      <geometry>
        <!--<box size="0.032 0.038 0.05" />-->
        <mesh filename="package://robbie_description/meshes/ax12_box2.stl" scale="0.001 0.001 0.001"/>
      </geometry>
    </collision>
    <inertial>
      <mass value="0.055"/>
      <inertia ixx="0.001" ixy="0.0" ixz="0.0" iyy="0.001" iyz="0.0" izz="0.001"/>
    </inertial>
  </link>
  <gazebo reference="head_pan_link">
    <material>Gazebo/FlatBlack</material>
    <selfCollide>false</selfCollide>
    <turnGravityOff>true</turnGravityOff>
  </gazebo>
  <link name="neck_link">
    <visual>
      <origin rpy="1.57 0 -1.570" xyz="0 0 0"/>
      <geometry>
        <mesh filename="package://robbie_description/meshes/F3.stl" scale="0.001 0.001 0.001"/>
      </geometry>
      <material name="grey1">
        <color rgba="0.75 0.75 0.75 1.0"/>
      </material>
      <material name="bracket_color">
        <color rgba="0.9 0.9 0.9 1.0"/>
      </material>
    </visual>
    <collision>
      <origin rpy="1.57 0 -1.570" xyz="0 0 0"/>
      <geometry>
        <mesh filename="package://robbie_description/meshes/F3.stl" scale="0.001 0.001 0.001"/>
      </geometry>
    </collision>
    <inertial>
      <mass value="0.01"/>
      <inertia ixx="0.001" ixy="0.0" ixz="0.0" iyy="0.001" iyz="0.0" izz="0.001"/>
    </inertial>
  </link>
  <gazebo reference="neck_link">
    <material>Gazebo/WhiteEmissive</material>
    <selfCollide>false</selfCollide>
    <turnGravityOff>true</turnGravityOff>
  </gazebo>
  <link name="head_base_link">
    <visual>
      <origin rpy="0 0 0" xyz="0 0 0"/>
      <geometry>
        <box size="0.06 0.08 0.005"/>
      </geometry>
      <material name="black">
        <color rgba="0.1 0.1 0.1 1.0"/>
      </material>
    </visual>
    <collision>
      <origin rpy="0 0 0" xyz="0 0 0"/>
      <geometry>
        <box size="0.06 0.08 0.005"/>
      </geometry>
      <inertial>
        <mass value="0.01"/>
        <inertia ixx="0.001" ixy="0.0" ixz="0.0" iyy="0.001" iyz="0.0" izz="0.001"/>
      </inertial>
    </collision>
  </link>
  <gazebo reference="head_base_link">
    <material>Gazebo/FlatBlack</material>
    <selfCollide>false</selfCollide>
    <turnGravityOff>true</turnGravityOff>
  </gazebo>
  <link name="head_link">
    <visual>
      <geometry>
        <mesh filename="package://robbie_description/meshes/head1.stl" scale="0.001 0.001 0.001"/>
      </geometry>
      <material name="gold">
        <color rgba="0.5 0.3 0 1.0"/>
      </material>
      <origin rpy="0 0 1.57" xyz="0 0 0"/>
    </visual>
  </link>
  <link name="head_link_fake">
    <inertial>
      <mass value="0.0001"/>
      <origin xyz="0 0 0"/>
      <inertia ixx="0.0001" ixy="0.0" ixz="0.0" iyy="0.0001" iyz="0.0" izz="0.0001"/>
    </inertial>
  </link>
  <link name="kinect_link">
    <inertial>
      <mass value="1.0"/>
      <origin xyz="0 0 0"/>
      <inertia ixx="1.0" ixy="0.0" ixz="0.0" iyy="1.0" iyz="0.0" izz="1.0"/>
    </inertial>
    <visual>
      <origin rpy="0 0 0" xyz=" 0 0 0 "/>
      <geometry>
        <mesh filename="package://robbie_description/meshes/kinect.stl" scale="0.001 0.001 0.001"/>
      </geometry>
      <material name="ax12_color">
        <color rgba="0.1 0.1 0.1 1.0"/>
      </material>
    </visual>
    <collision>
      <origin rpy="0 0 0" xyz="0 0 0"/>
      <geometry>
        <mesh filename="package://robbie_description/meshes/kinect.stl" scale="0.001 0.001 0.001"/>
      </geometry>
    </collision>
  </link>
  <link name="head_cam_link">
    <inertial>
      <mass value="1.0"/>
      <origin xyz="0 0 0"/>
      <inertia ixx="1.0" ixy="0.0" ixz="0.0" iyy="1.0" iyz="0.0" izz="1.0"/>
    </inertial>
    <visual>
      <origin rpy="0 0 0" xyz=" 0 0 0 "/>
      <geometry>
        <mesh filename="package://robbie_description/meshes/kinect.stl" scale="0.001 0.001 0.001"/>
      </geometry>
      <material name="ax12_color">
        <color rgba="0.1 0.1 0.1 1.0"/>
      </material>
    </visual>
    <collision>
      <origin rpy="0 0 0" xyz="0 0 0"/>
      <geometry>
        <mesh filename="package://robbie_description/meshes/kinect.stl" scale="0.001 0.001 0.001"/>
      </geometry>
    </collision>
  </link>
  <!--<xacro:my_cylinder name="camera_link" l="0.035" r="0.01" xyz="0 0 0" rpy="0 1.57 0" mass="0.1" material="Gazebo/Grey">		
      <xacro:grey1 />
	</xacro:my_cylinder>-->
  <!-- virtal joints-->
  <link name="right_gripper_link">
    <visual>
      <origin rpy="0 0 0" xyz="0.05 0 0"/>
      <geometry>
        <box size="0.001 0.001 0.001"/>
      </geometry>
    </visual>
    <collision>
      <origin rpy="0 0 0" xyz="0.05 0 0"/>
      <geometry>
        <box size="0.001 0.001 0.001"/>
      </geometry>
    </collision>
  </link>
  <link name="left_gripper_link">
    <visual>
      <origin rpy="0 0 0" xyz="-0.05 0 0"/>
      <geometry>
        <box size="0.001 0.001 0.001"/>
      </geometry>
    </visual>
    <collision>
      <origin rpy="0 0 0" xyz="-0.05 0 0"/>
      <geometry>
        <box size="0.001 0.001 0.001"/>
      </geometry>
    </collision>
  </link>
  <!-- ##############################   joints ##################333333-->
  <joint name="base_footprint_joint" type="fixed">
    <parent link="base_footprint"/>
    <child link="base_link"/>
    <origin rpy="0 0 0" xyz="-0.1 0 0.15"/>
  </joint>
  <joint name="base_link_joint" type="fixed">
    <parent link="base_link"/>
    <child link="deck_link"/>
    <origin rpy="0 0 0" xyz="0 0 0.138"/>
  </joint>
  <joint name="base_l_wheel_joint" type="fixed">
    <parent link="base_link"/>
    <child link="left_wheel"/>
    <origin rpy="0 0 0" xyz="0.1 -0.2 -0.04"/>
  </joint>
  <joint name="base_r_wheel_joint" type="fixed">
    <parent link="base_link"/>
    <child link="right_wheel"/>
    <origin rpy="0 0 0" xyz="0.1 0.2 -0.04"/>
  </joint>
  <joint name="castor_wheel_joint_l" type="fixed">
    <parent link="base_link"/>
    <child link="castor_wheel_l"/>
    <origin rpy="0 0 0" xyz="-0.20 -0.13 -0.1"/>
  </joint>
  <joint name="castor_wheel_joint_r" type="fixed">
    <parent link="base_link"/>
    <child link="castor_wheel_r"/>
    <origin rpy="0 0 0" xyz="-0.20 0.13 -0.1"/>
  </joint>
  <!--#################  Upper torso#############################-->
  <joint name="pan_joint" type="revolute">
    <parent link="deck_link"/>
    <child link="pan_link"/>
    <origin rpy="0 0 0" xyz="0 0 0.35"/>
    <axis xyz="0 0 1"/>
    <limit effort="10" lower="-1" upper="1" velocity="0"/>
  </joint>
  <joint name="torso_lower_link" type="fixed">
    <parent link="pan_link"/>
    <child link="lower_torso"/>
    <origin rpy="0 0 0" xyz="0.0 0.005 0."/>
  </joint>
  <joint name="torso_link" type="fixed">
    <parent link="pan_link"/>
    <child link="upper_torso"/>
    <origin rpy="0 0 0" xyz="0.0 0.005 0.465"/>
  </joint>
  <joint name="chest_link" type="fixed">
    <parent link="upper_torso"/>
    <child link="upper_chest"/>
    <origin rpy="0 0 0" xyz="0.065 0 -0.04"/>
  </joint>
  <joint name="right_arm_tilt_joint" type="revolute">
    <parent link="upper_torso"/>
    <child link="right_shoulder_tilt"/>
    <origin rpy="0 0 0" xyz="0 -0.14 -0.045"/>
    <axis xyz="1 0 0"/>
    <limit effort="10" lower="-1.34" upper="0.1" velocity="1"/>
  </joint>
  <joint name="right_arm_lift_joint" type="revolute">
    <parent link="right_shoulder_tilt"/>
    <child link="right_shoulder_lift"/>
    <origin rpy="0 0 0" xyz="0 -0.078 -0.042"/>
    <axis xyz="0 1 0"/>
    <limit effort="10" lower="-1.57" upper="1.57" velocity="1"/>
  </joint>
  <joint name="right_arm_rotate_joint" type="revolute">
    <parent link="right_shoulder_lift"/>
    <child link="right_shoulder_rotate"/>
    <origin rpy="0 0 0" xyz="0.255 -0.01 0"/>
    <axis xyz="1 0 0"/>
    <limit effort="10" lower="-2.6" upper="2.6" velocity="1"/>
  </joint>
  <joint name="right_elbow_link" type="fixed">
    <parent link="right_shoulder_rotate"/>
    <child link="right_elbow_link"/>
    <origin rpy="0 0 0" xyz="-0.01 0 0.01"/>
  </joint>
  <joint name="right_arm_elbow_joint" type="revolute">
    <parent link="right_elbow_link"/>
    <child link="right_elbow"/>
    <origin rpy="0 0 0" xyz="0.01 0.01 0.0"/>
    <axis xyz="0 1 0"/>
    <limit effort="10" lower="-2.20" upper="0.1" velocity="10"/>
  </joint>
  <joint name="right_arm_forearm_link" type="fixed">
    <parent link="right_elbow"/>
    <child link="right_forearm_link"/>
    <origin rpy="0 0 0" xyz="0.31 -0.0 -0.0"/>
  </joint>
  <!--right_arm_wrist_yaw_joint-->
  <joint name="right_arm_wrist_yaw_bracket" type="fixed">
    <parent link="right_forearm_link"/>
    <child link="wrist_yaw_servo_bracket_f3"/>
    <origin rpy="0 0 0" xyz="0.0 0.0 0.0"/>
  </joint>
  <joint name="right_arm_wrist_yaw_bracket1" type="fixed">
    <parent link="wrist_yaw_servo_bracket_f3"/>
    <child link="wrist_yaw_servo"/>
    <origin rpy="0 0 0" xyz="0.04 0 0.0"/>
    <axis xyz="0 0 1"/>
    <limit effort="10" lower="-2.61" upper="2.61" velocity="1"/>
    <dynamics damping="0.0"/>
  </joint>
  <joint name="right_arm_wrist_yaw_joint" type="revolute">
    <parent link="wrist_yaw_servo"/>
    <child link="right_wrist_yaw_bracket_f2"/>
    <origin rpy="0 0 0" xyz="0.0 0 0.0"/>
    <axis xyz="0 0 1"/>
    <limit effort="10" lower="-2.61" upper="2.61" velocity="1"/>
  </joint>
  <joint name="right_arm_wrist_tilt1_bracket" type="fixed">
    <parent link="right_wrist_yaw_bracket_f2"/>
    <child link="wrist_tilt_bracket_f2"/>
    <origin rpy="0 0 0" xyz="0.053 0 0.0"/>
    <axis xyz="0 0 1"/>
  </joint>
  <!--wrist_tilt_joint-->
  <joint name="right_arm_wrist_tilt_joint" type="revolute">
    <parent link="wrist_tilt_bracket_f2"/>
    <child link="wrist_tilt_servo"/>
    <origin rpy="0 0 0" xyz="0 0 0"/>
    <axis xyz="0 1 0"/>
    <limit effort="10" lower="-1.57" upper="1.57" velocity="1"/>
    <dynamics damping="0.0"/>
  </joint>
  <joint name="right_arm_gripper_bracket" type="fixed">
    <parent link="wrist_tilt_servo"/>
    <child link="gripper_bracket_f3"/>
    <origin rpy="0 0 0" xyz="0.04 0 0.0"/>
    <!--now-->
  </joint>
  <joint name="right_arm_gripper_servo" type="fixed">
    <parent link="gripper_bracket_f3"/>
    <child link="gripper_servo"/>
    <origin rpy="0 0 0" xyz="0.02 -0.015 0.0"/>
  </joint>
  <joint name="right_gripper_joint" type="fixed">
    <parent link="gripper_bracket_f3"/>
    <child link="right_gripper_link"/>
    <origin rpy="0 0 0" xyz="0.06 -0.01 0"/>
  </joint>
  <!-- gripper_joint-->
  <joint name="right_arm_gripper_joint" type="revolute">
    <parent link="gripper_servo"/>
    <child link="gripper_bracket_f2"/>
    <origin rpy="0 0 0" xyz="0 0.0 0.0"/>
    <axis xyz="0 0 1"/>
    <limit effort="10" lower="-0.1" upper="0.50" velocity="1"/>
    <dynamics damping="0.0"/>
  </joint>
  <joint name="right_arm_finger_link_l" type="fixed">
    <parent link="gripper_servo"/>
    <child link="left_finger_link"/>
    <origin rpy="0 0 0" xyz="0.08 0.04 0"/>
  </joint>
  <!-- moving finger   ############-->
  <joint name="right_arm_finger_link_r" type="fixed">
    <parent link="gripper_bracket_f2"/>
    <child link="right_finger_link"/>
    <origin rpy="0 0 0" xyz="0.08 -0.03 0"/>
  </joint>
  <!--##########################        left arm             #############################-->
  <joint name="left_arm_tilt_joint" type="revolute">
    <parent link="upper_torso"/>
    <child link="left_shoulder_tilt"/>
    <origin rpy="0 0 0" xyz="0.003 0.142 -0.05"/>
    <axis xyz="-1 0 0"/>
    <limit effort="10" lower="-1.34" upper="0.03" velocity="1"/>
  </joint>
  <joint name="left_arm_lift_joint" type="revolute">
    <parent link="left_shoulder_tilt"/>
    <child link="left_shoulder_lift"/>
    <origin rpy="0 0 0" xyz="0 0.08 -0.04"/>
    <axis xyz="0 1 0"/>
    <limit effort="10" lower="-1.57" upper="1.57" velocity="1"/>
  </joint>
  <joint name="left_arm_rotate_joint" type="revolute">
    <parent link="left_shoulder_lift"/>
    <child link="left_shoulder_rotate"/>
    <origin rpy="0 0 0" xyz="0.24 0 0"/>
    <axis xyz="1 0 0"/>
    <limit effort="10" lower="-2.6" upper="2.6" velocity="1"/>
  </joint>
  <joint name="left_elbow_link" type="fixed">
    <parent link="left_shoulder_rotate"/>
    <child link="left_elbow_link"/>
    <origin rpy="0 0 0" xyz="-0.01 0 0.008"/>
  </joint>
  <joint name="left_arm_elbow_joint" type="revolute">
    <parent link="left_elbow_link"/>
    <child link="left_elbow"/>
    <origin rpy="0 -0 0" xyz="0 0 0"/>
    <axis xyz="0 1 0"/>
    <limit effort="10" lower="-2.20" upper="0.17" velocity="1"/>
  </joint>
  <joint name="left_arm_forearm_link" type="fixed">
    <parent link="left_elbow"/>
    <child link="left_forearm_link"/>
    <origin rpy="0 0 0" xyz="0.31 -0.0 -0.0"/>
  </joint>
  <joint name="left_arm_wrist_yaw_attach" type="fixed">
    <!--revolute-->
    <parent link="left_forearm_link"/>
    <child link="left_wrist_pan_servo_bracket_f3"/>
    <origin rpy="0 0 0" xyz="0. 0 0"/>
    <dynamics damping="0.0"/>
  </joint>
  <joint name="left_arm_wrist_tilt_bracket" type="fixed">
    <parent link="left_wrist_pan_servo_bracket_f3"/>
    <child link="left_wrist_yaw_servo"/>
    <origin rpy="0 0 0" xyz="0.04 0 0.0"/>
    <axis xyz="1 0 0"/>
  </joint>
  <!--wrist_yaw_joint-->
  <joint name="left_arm_wrist_yaw_joint" type="revolute">
    <!--revolute-->
    <parent link="left_wrist_yaw_servo"/>
    <child link="left_wrist_yaw_bracket_f2"/>
    <origin rpy="0 0 0" xyz="0.0 0 0"/>
    <axis xyz="0 0 1"/>
    <limit effort="10" lower="-1.57" upper="1.57" velocity="1"/>
    <dynamics damping="0.0"/>
  </joint>
  <joint name="left_arm_wrist_yaw_bracket" type="fixed">
    <parent link="left_wrist_yaw_bracket_f2"/>
    <child link="left_wrist_tilt_bracket_f2"/>
    <origin rpy="0 0 0" xyz="0.055 0 0.0"/>
    <axis xyz="1 0 0"/>
    <limit effort="10" lower="-1.57" upper="1.57" velocity="1"/>
    <dynamics damping="0.0"/>
  </joint>
  <!--wrist_tilt_joint-->
  <joint name="left_arm_wrist_tilt_joint" type="revolute">
    <!--revolute-->
    <parent link="left_wrist_tilt_bracket_f2"/>
    <child link="left_wrist_tilt_servo"/>
    <origin rpy="0 0 0" xyz="-0 -0.0 0"/>
    <axis xyz="0 1 0"/>
    <limit effort="10" lower="-1.57" upper="1.57" velocity="1"/>
    <dynamics damping="0.0"/>
  </joint>
  <joint name="left_arm_gripper_bracket" type="fixed">
    <parent link="left_wrist_tilt_servo"/>
    <child link="left_gripper_bracket_f3"/>
    <origin rpy="3.14 0 0" xyz="0.04 0 0.0"/>
  </joint>
  <joint name="left_arm_gripper_servo" type="fixed">
    <parent link="left_gripper_bracket_f3"/>
    <child link="left_gripper_servo"/>
    <origin rpy="0 0 0" xyz="0.02 -0.02 -0."/>
  </joint>
  <joint name="left_gripper_joint" type="fixed">
    <origin rpy="0 0 0" xyz="0.06 -0.01 0"/>
    <parent link="left_gripper_bracket_f3"/>
    <child link="left_gripper_link"/>
  </joint>
  <!-- left gripper_joint-->
  <joint name="left_arm_gripper_joint" type="revolute">
    <!--revolute-->
    <parent link="left_gripper_servo"/>
    <child link="left_gripper_bracket_f2"/>
    <origin rpy="0 0 0" xyz="0 0.0 0.0"/>
    <axis xyz="0 0 1"/>
    <limit effort="10" lower="-1.0" upper="0.3" velocity="1"/>
    <dynamics damping="0.0"/>
  </joint>
  <joint name="left_arm_finger_link_l" type="fixed">
    <parent link="left_gripper_servo"/>
    <child link="left_left_finger_link"/>
    <origin rpy="0 0 0" xyz="0.08 0.04 0"/>
  </joint>
  <joint name="left_arm_finger_link_r" type="fixed">
    <parent link="left_gripper_bracket_f2"/>
    <child link="left_right_finger_link"/>
    <origin rpy="0 0 0" xyz="0.08 -0.03 0"/>
  </joint>
  <!-- #####################################Head joints#########################################-->
  <joint name="head_tilt_servo" type="fixed">
    <parent link="upper_torso"/>
    <child link="head_tilt_bracket"/>
    <origin rpy="0 0 0" xyz="-0.0 0. 0.05"/>
  </joint>
  <!-- Head tilt joint-->
  <joint name="head_tilt_mod_joint" type="revolute">
    <parent link="head_tilt_bracket"/>
    <child link="head_tilt_link"/>
    <origin rpy="0 0 0" xyz="0 0 0.0"/>
    <axis xyz="0 1 0"/>
    <limit effort="10" lower="-2.6" upper="2.6" velocity="1"/>
    <dynamics damping="0.0"/>
  </joint>
  <!-- Head tilt joint fake-->
  <joint name="head_tilt_joint" type="fixed">
    <parent link="head_tilt_bracket"/>
    <child link="head_link_fake"/>
    <origin rpy="0 0 0" xyz="0 0 0.0"/>
    <axis xyz="0 1 0"/>
    <limit effort="10" lower="-2.6" upper="2.6" velocity="1"/>
    <dynamics damping="0.0"/>
  </joint>
  <joint name="head_pan_servo" type="fixed">
    <parent link="head_tilt_link"/>
    <child link="head_pan_bracket"/>
    <origin rpy="0 0 0" xyz="-0.0 0 0.04"/>
  </joint>
  <!-- head_pan_joint-->
  <joint name="head_pan_joint" type="revolute">
    <parent link="head_pan_bracket"/>
    <child link="head_pan_link"/>
    <origin rpy="0 0 0" xyz="0.0 0 0.02"/>
    <origin rpy="0 0 0" xyz="0 0 0.0"/>
    <axis xyz="0 0 1"/>
    <limit effort="10" lower="-2" upper="2" velocity="1"/>
    <dynamics damping="0.0"/>
  </joint>
  <joint name="head_neck_link" type="fixed">
    <parent link="head_pan_link"/>
    <child link="neck_link"/>
    <origin rpy="0 0 0" xyz="-0.04 0 0.0"/>
  </joint>
  <joint name="neck_joint" type="fixed">
    <parent link="neck_link"/>
    <child link="head_base_link"/>
    <origin rpy="0 0 0" xyz="0.02 0 0.0"/>
  </joint>
  <joint name="head_joint" type="fixed">
    <parent link="head_base_link"/>
    <child link="head_link"/>
    <origin rpy="0 0 0" xyz="-0.02 -0.097 0"/>
  </joint>
  <!--<joint name="camera_link" type="fixed">
    	<parent link="head_link" />
    	<child link="camera_link" />
    	<origin xyz="0.13 0.1 0.6" rpy="0 0 0" />
	</joint>-->
  <joint name="kinect_joint" type="fixed">
    <parent link="base_link"/>
    <child link="kinect_link"/>
    <origin rpy="0 0 0" xyz="0.2 0 0.32"/>
  </joint>
  <joint name="kinect_depth_joint" type="fixed">
    <origin rpy="0 0 0" xyz="0 0.0125 0.015"/>
    <parent link="kinect_link"/>
    <child link="kinect_depth_frame"/>
  </joint>
  <link name="kinect_depth_frame">
    <inertial>
      <mass value="0.000001"/>
      <origin xyz="0 0 0"/>
      <inertia ixx="0.0001" ixy="0.0" ixz="0.0" iyy="0.0001" iyz="0.0" izz="0.0001"/>
    </inertial>
  </link>
  <joint name="kinect_depth_optical_joint" type="fixed">
    <origin rpy="-1.57075 0 -1.57075" xyz="0 0 0"/>
    <parent link="kinect_depth_frame"/>
    <child link="kinect_depth_optical_frame"/>
  </joint>
  <link name="kinect_depth_optical_frame">
    <inertial>
      <mass value="0.000001"/>
      <origin xyz="0 0 0"/>
      <inertia ixx="0.0001" ixy="0.0" ixz="0.0" iyy="0.0001" iyz="0.0" izz="0.0001"/>
    </inertial>
  </link>
  <joint name="kinect_rgb_joint" type="fixed">
    <origin rpy="0 0 0" xyz="0 -0.0125 0.015"/>
    <parent link="kinect_link"/>
    <child link="kinect_rgb_frame"/>
  </joint>
  <link name="kinect_rgb_frame">
    <inertial>
      <mass value="0.000001"/>
      <origin xyz="0 0 0"/>
      <inertia ixx="0.0001" ixy="0.0" ixz="0.0" iyy="0.0001" iyz="0.0" izz="0.0001"/>
    </inertial>
  </link>
  <joint name="kinect_rgb_optical_joint" type="fixed">
    <origin rpy="-1.57075 0 -1.57075" xyz="0 0 0"/>
    <parent link="kinect_rgb_frame"/>
    <child link="kinect_rgb_optical_frame"/>
  </joint>
  <link name="kinect_rgb_optical_frame">
    <inertial>
      <mass value="0.000001"/>
      <origin xyz="0 0 0"/>
      <inertia ixx="0.0001" ixy="0.0" ixz="0.0" iyy="0.0001" iyz="0.0" izz="0.0001"/>
    </inertial>
  </link>
  <joint name="head_cam_joint" type="fixed">
    <parent link="head_link"/>
    <child link="head_cam_link"/>
    <origin rpy="0 0.1 0" xyz="0.15 0.11 0.13"/>
  </joint>
  <joint name="head_cam_depth_joint" type="fixed">
    <origin rpy="0 0 0" xyz="0 0.0125 0.015"/>
    <parent link="head_cam_link"/>
    <child link="head_cam_depth_frame"/>
  </joint>
  <link name="head_cam_depth_frame">
    <inertial>
      <mass value="0.000001"/>
      <origin xyz="0 0 0"/>
      <inertia ixx="0.0001" ixy="0.0" ixz="0.0" iyy="0.0001" iyz="0.0" izz="0.0001"/>
    </inertial>
  </link>
  <joint name="head_cam_depth_optical_joint" type="fixed">
    <origin rpy="-1.57075 0 -1.57075" xyz="0 0 0"/>
    <parent link="head_cam_depth_frame"/>
    <child link="head_cam_depth_optical_frame"/>
  </joint>
  <link name="head_cam_depth_optical_frame">
    <inertial>
      <mass value="0.000001"/>
      <origin xyz="0 0 0"/>
      <inertia ixx="0.0001" ixy="0.0" ixz="0.0" iyy="0.0001" iyz="0.0" izz="0.0001"/>
    </inertial>
  </link>
  <joint name="head_cam_rgb_joint" type="fixed">
    <origin rpy="0 0 0" xyz="0 -0.0125 0.015"/>
    <parent link="head_cam_link"/>
    <child link="head_cam_rgb_frame"/>
  </joint>
  <link name="head_cam_rgb_frame">
    <inertial>
      <mass value="0.000001"/>
      <origin xyz="0 0 0"/>
      <inertia ixx="0.0001" ixy="0.0" ixz="0.0" iyy="0.0001" iyz="0.0" izz="0.0001"/>
    </inertial>
  </link>
  <joint name="head_cam_rgb_optical_joint" type="fixed">
    <origin rpy="-1.57075 0 -1.57075" xyz="0 0 0"/>
    <parent link="head_cam_rgb_frame"/>
    <child link="head_cam_rgb_optical_frame"/>
  </joint>
  <link name="head_cam_rgb_optical_frame">
    <inertial>
      <mass value="0.000001"/>
      <origin xyz="0 0 0"/>
      <inertia ixx="0.0001" ixy="0.0" ixz="0.0" iyy="0.0001" iyz="0.0" izz="0.0001"/>
    </inertial>
  </link>
  <gazebo reference="robbie">
  	</gazebo>
  <transmission name="tran1">
    <type>transmission_interface/SimpleTransmission</type>
    <joint name="pan_joint">
      <hardwareInterface>EffortJointInterface</hardwareInterface>
    </joint>
    <actuator name="motor1">
      <hardwareInterface>EffortJointInterface</hardwareInterface>
      <mechanicalReduction>1</mechanicalReduction>
    </actuator>
  </transmission>
</robot>
